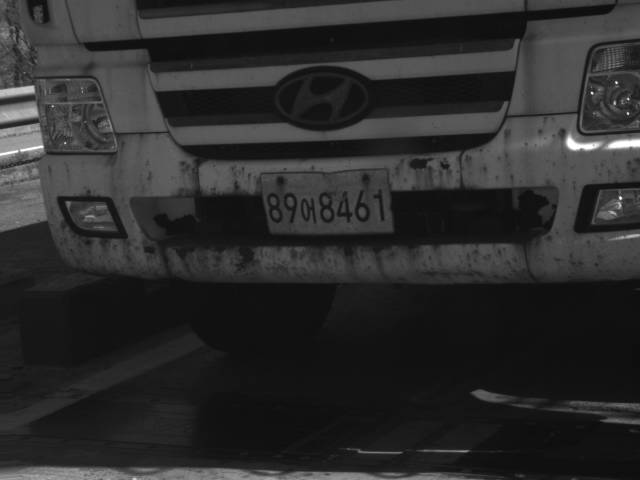car: (20, 1, 639, 352)
plate: (258, 168, 394, 235)
